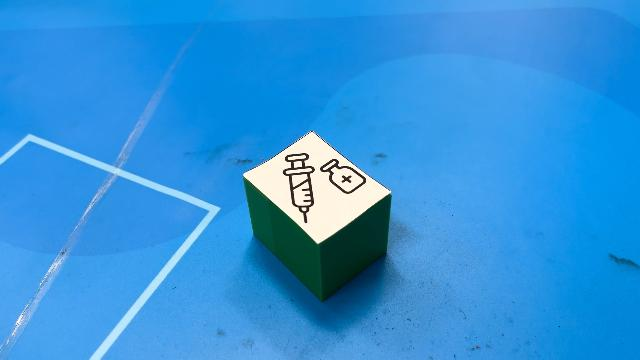syringe: (242, 132, 392, 302)
